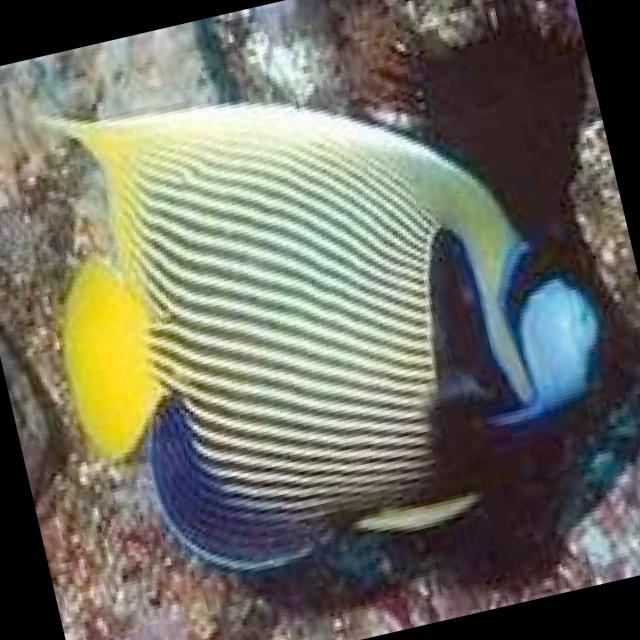AngelFish: (10, 0, 629, 590)
